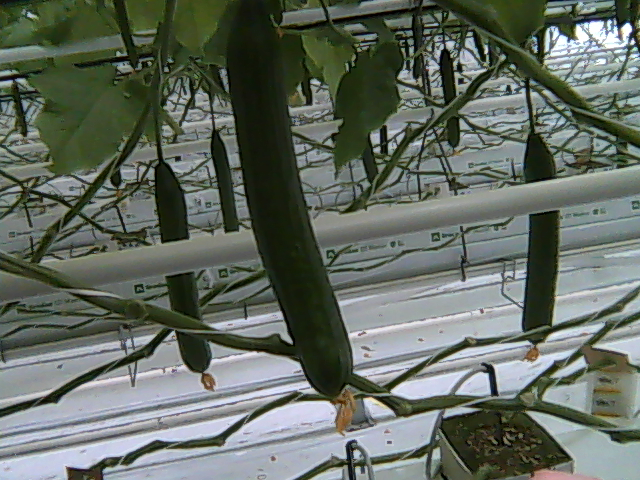concombre: (222, 1, 359, 439)
